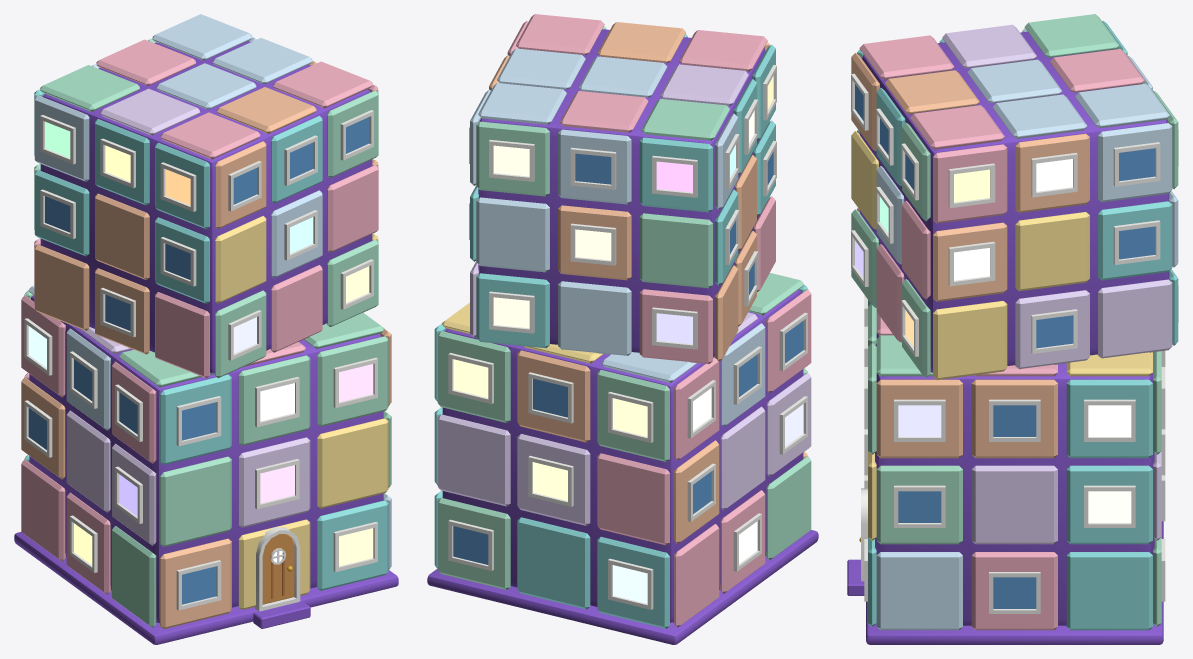
The model's file is casa_cubo_magico_pastel.glb.
3 views of the same model, side by side, from view 1: azimuth 30°, elevation 25°; view 2: azimuth 150°, elevation 25°; view 3: azimuth 270°, elevation 25° (orthographic). The views are drawn at different scales.
Visible parts, largest first — view 1: casa_cubo_magico_pastel; view 2: casa_cubo_magico_pastel; view 3: casa_cubo_magico_pastel.
Boxes of the visible parts, x1,y1,x2,y2 form: casa_cubo_magico_pastel: (14, 14, 398, 644); casa_cubo_magico_pastel: (427, 14, 818, 644); casa_cubo_magico_pastel: (847, 14, 1178, 644).
Size of the model in its own units: 7.59 by 12.93 by 7.68.
Materials: 8 (1 with a texture image).
